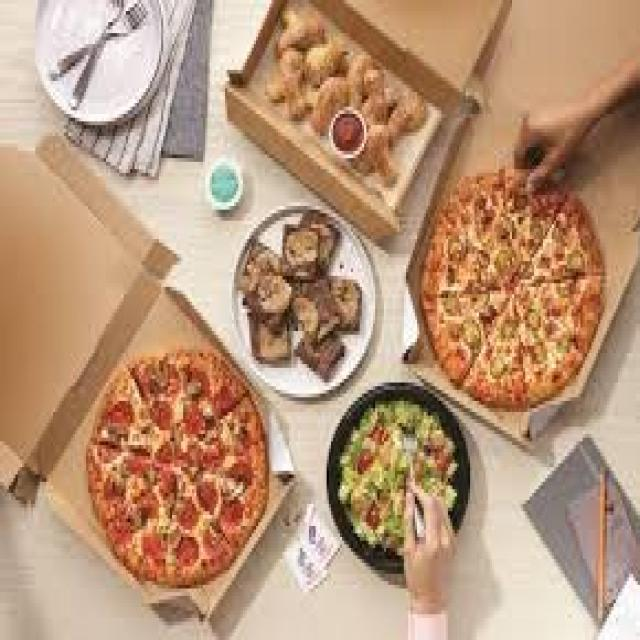피자: (417, 178, 614, 412), (83, 354, 273, 581)
